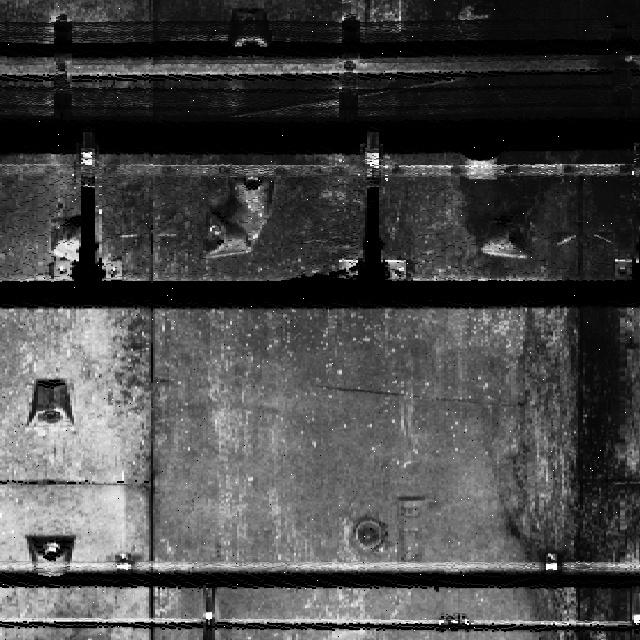leakage: (449, 154, 639, 640)
